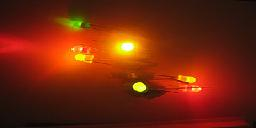LED: (55, 12, 96, 32), (174, 69, 202, 87), (120, 41, 141, 60), (72, 53, 102, 66), (176, 84, 206, 96), (128, 78, 149, 95)
